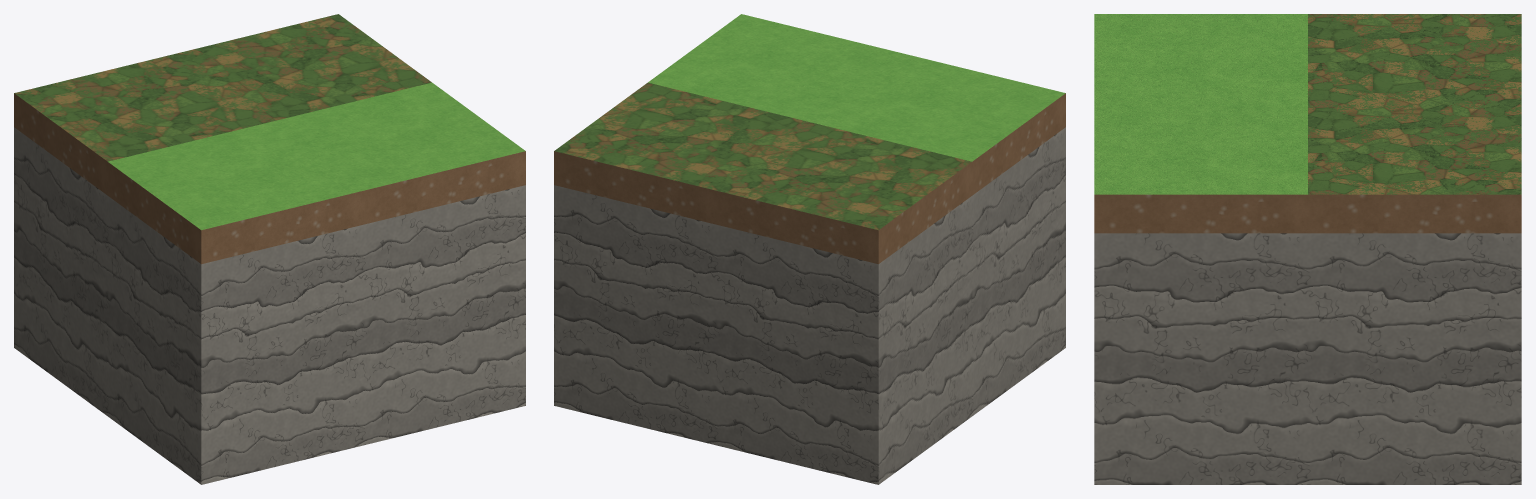
The model's file is Forest_Edge_U.fbx.
3 views of the same model, side by side, from view 1: azimuth 30°, elevation 25°; view 2: azimuth 150°, elevation 25°; view 3: azimuth 270°, elevation 25° (orthographic). The views are drawn at different scales.
Parts seen in each view (by area): view 1: Forest_Edge_U; view 2: Forest_Edge_U; view 3: Forest_Edge_U.
Part boxes in pixels (x1,y1,x2,y2): Forest_Edge_U: [14, 14, 525, 484]; Forest_Edge_U: [554, 14, 1065, 484]; Forest_Edge_U: [1094, 14, 1521, 484].
Size of the model in its own units: 3 by 2.25 by 3.
4 materials, 4 textured.
